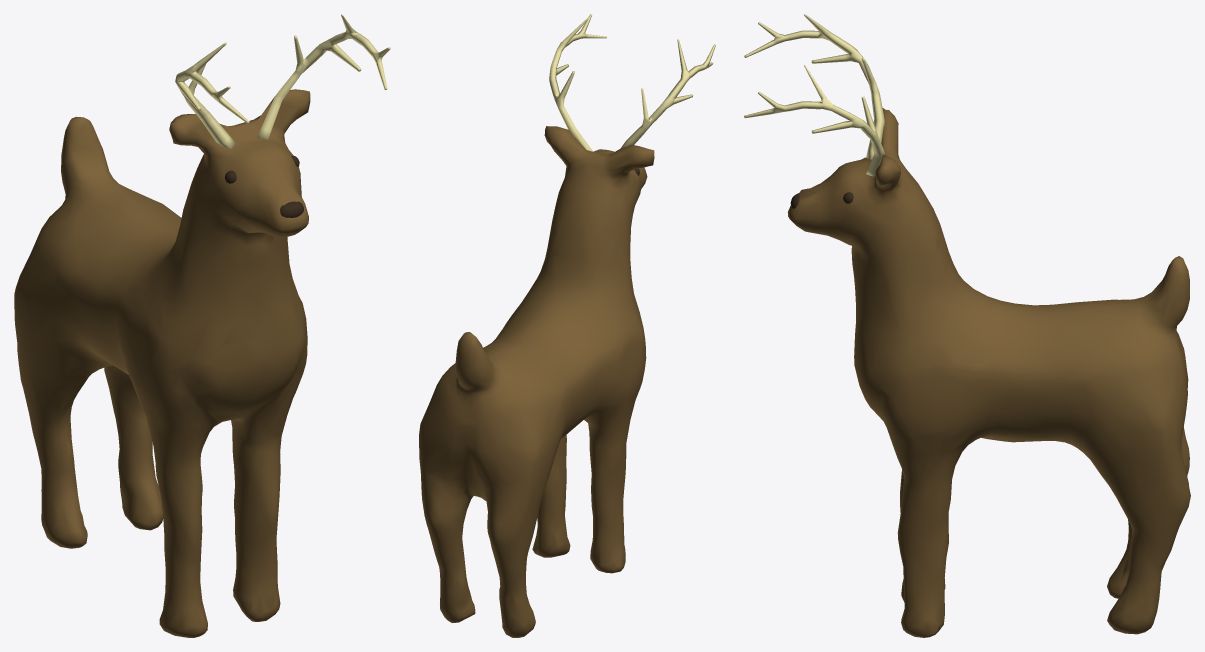
The model's file is Deer Buck.glb.
3 renders of one model, left to right at view 1: azimuth 30°, elevation 25°; view 2: azimuth 150°, elevation 25°; view 3: azimuth 270°, elevation 25°, orthographic. The views are drawn at different scales.
Visible parts, largest first — view 1: Deer Buck; view 2: Deer Buck; view 3: Deer Buck.
Part boxes in pixels (x1,y1,x2,y2): Deer Buck: [14, 14, 390, 637]; Deer Buck: [419, 14, 715, 637]; Deer Buck: [744, 14, 1190, 637].
Size of the model in its own units: 0.6611 by 2.43 by 1.71.
